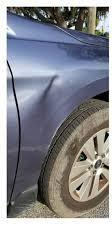dent: (34, 70, 68, 111)
